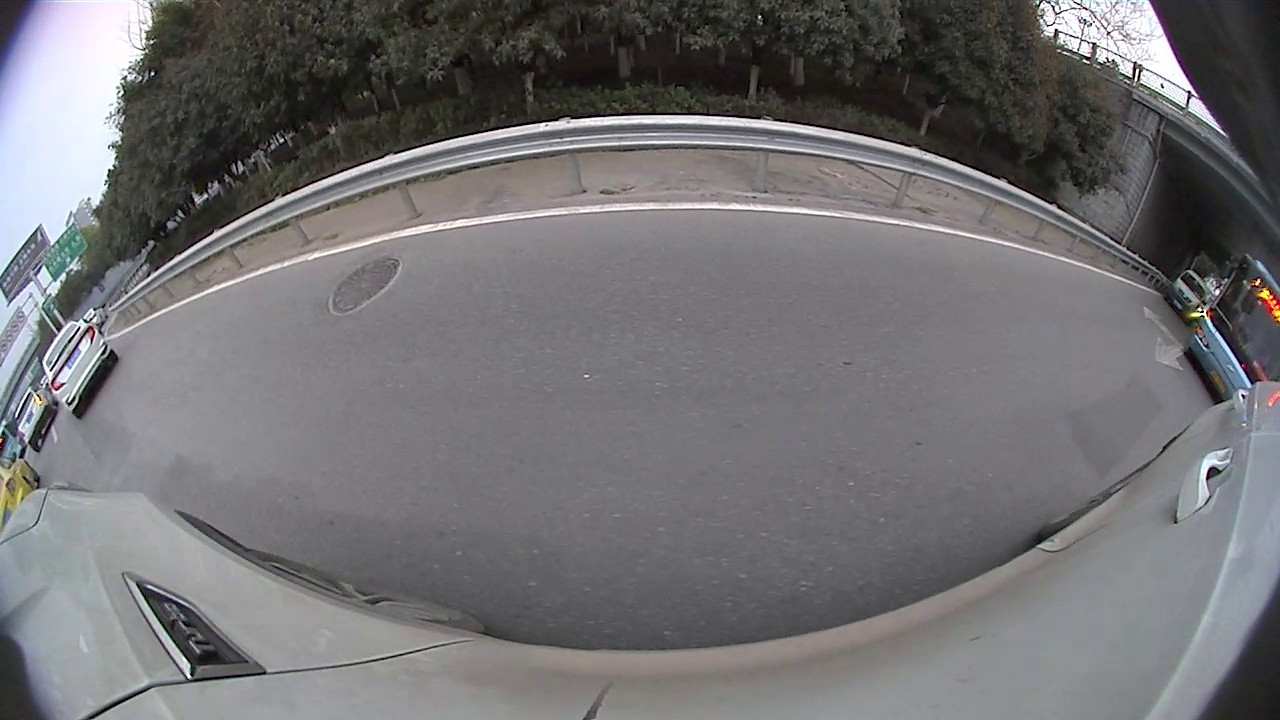bus: (18, 2, 449, 336)
car: (1008, 166, 1104, 271), (1113, 276, 1177, 345)
front: (125, 243, 189, 318)
rear: (1048, 236, 1066, 256)
